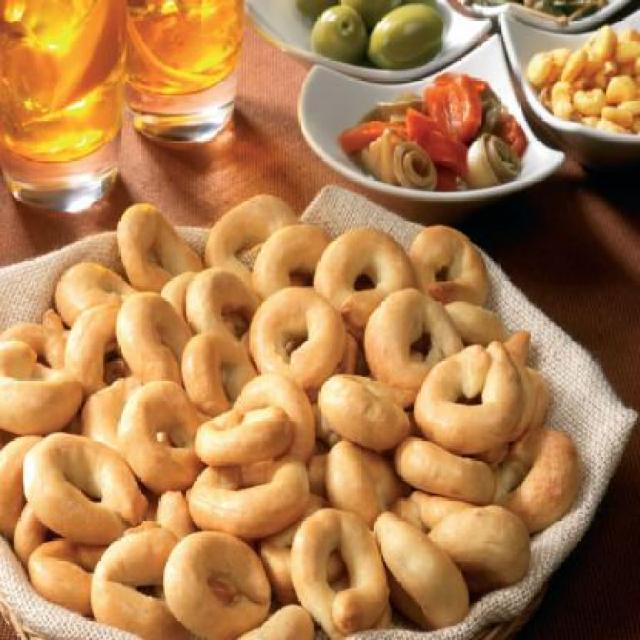Taralli: (8, 203, 580, 629)
